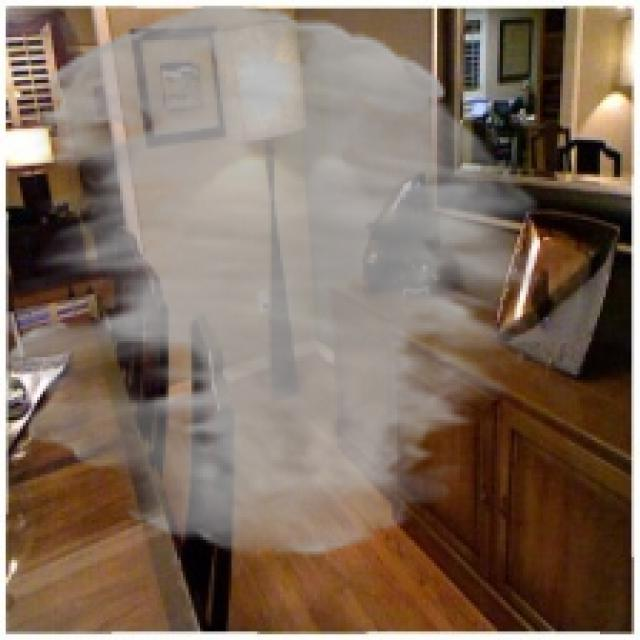smoke: (8, 6, 543, 557)
